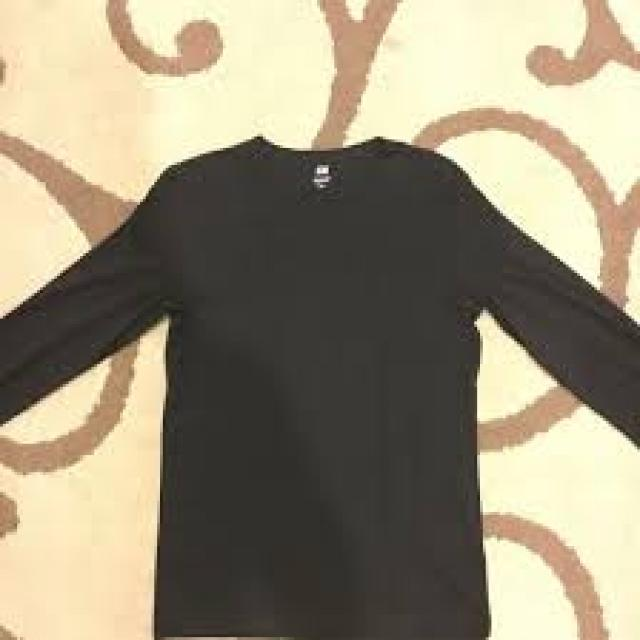plain: (154, 125, 497, 640)
